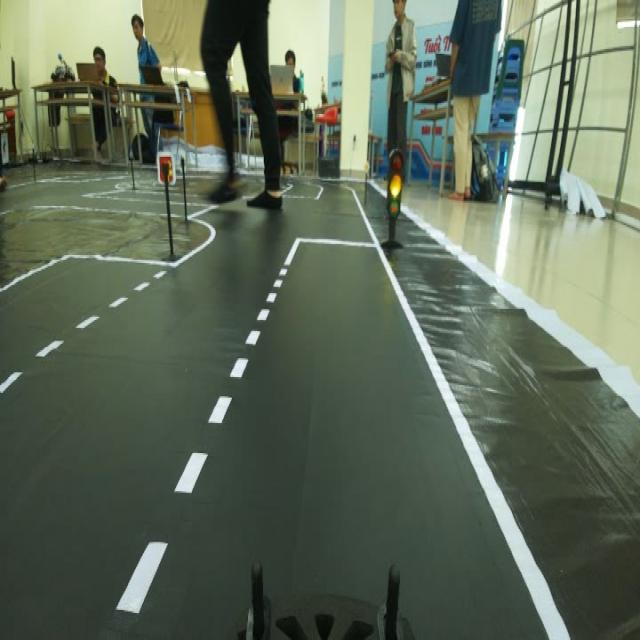trafficlight: (369, 141, 411, 257)
